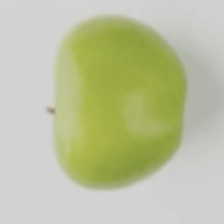apple: (35, 44, 216, 197)
